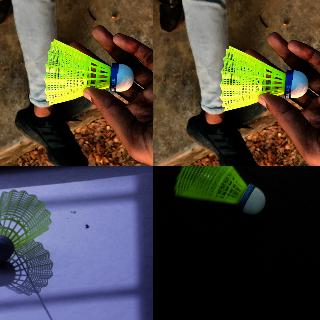shuttlecock: (218, 44, 310, 112), (44, 40, 134, 104), (174, 166, 267, 215), (0, 189, 52, 263)
